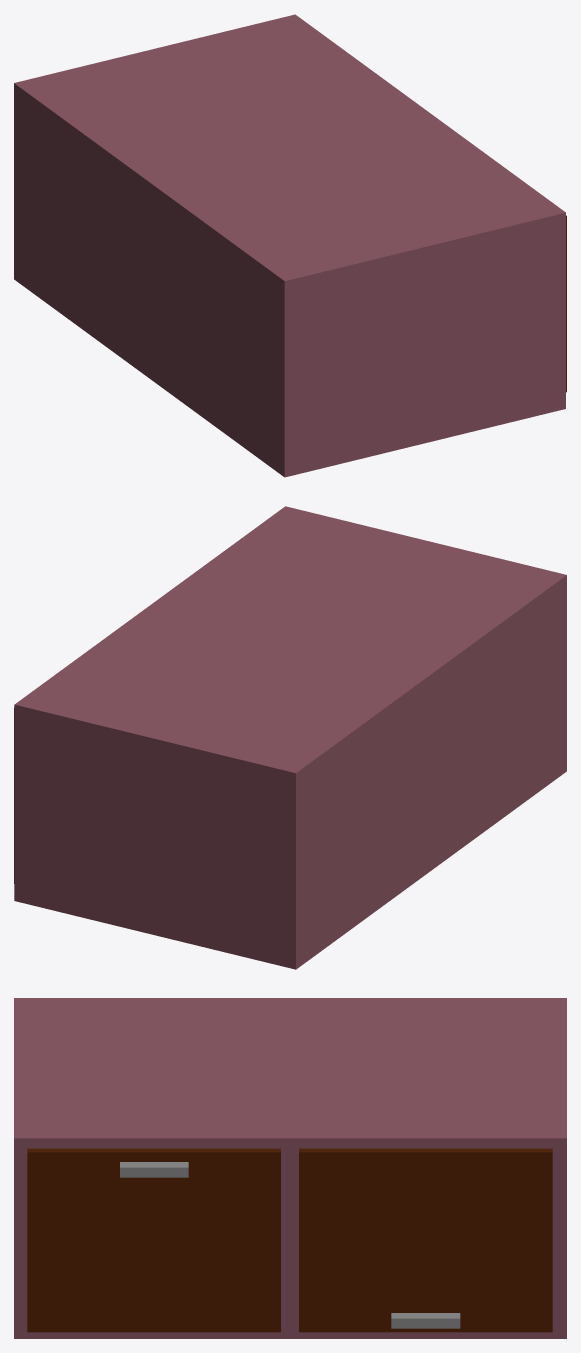
Rendered from Res01_Kitchen_HangBox6.fbx.
3 renders of one model, top to bottom at view 1: azimuth 30°, elevation 25°; view 2: azimuth 150°, elevation 25°; view 3: azimuth 270°, elevation 25°, orthographic. The views are drawn at different scales.
Visible parts, largest first — view 1: Res01_Kitchen_HangBox6; view 2: Res01_Kitchen_HangBox6; view 3: Res01_Kitchen_HangBox6.
Part boxes in pixels (x1,y1,x2,y2): Res01_Kitchen_HangBox6: (14,14,566,477); Res01_Kitchen_HangBox6: (14,506,566,969); Res01_Kitchen_HangBox6: (14,998,566,1338).
Size of the model in its own units: 128 by 80 by 200.
